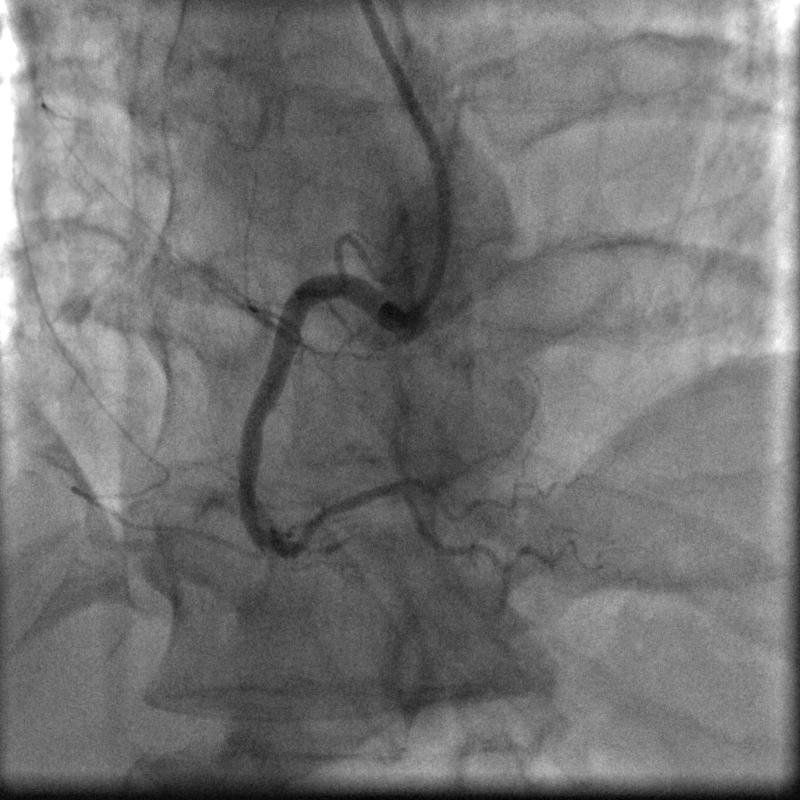Stenosis: (288, 530, 344, 555)
